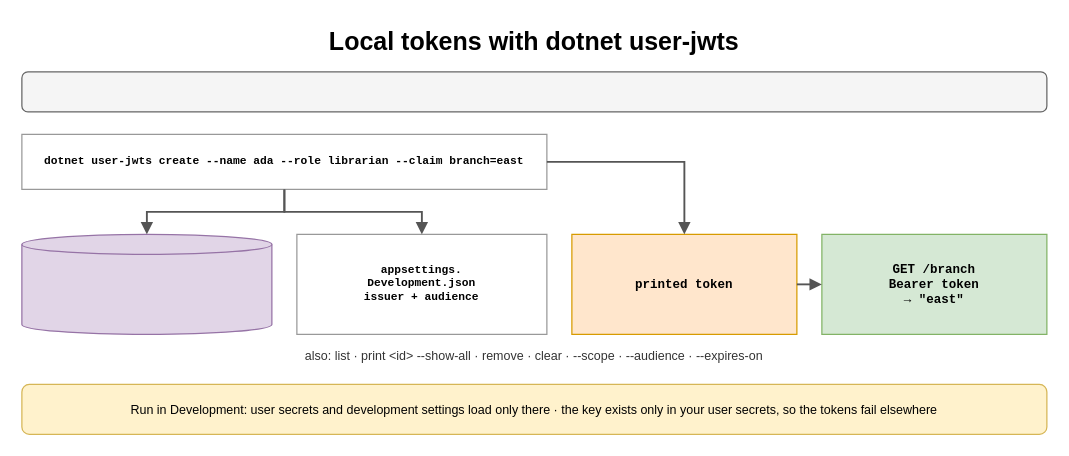
The diagram is 1069 pixels wide and 456 high, and some of its shapes have lost their labels. The box of each missing label's shape, as (x1, y1, x2, y2) in pixels:
Test JWTs for local development without an identity provider: (21, 71, 1047, 112)
user secrets signing key: (21, 233, 272, 334)
